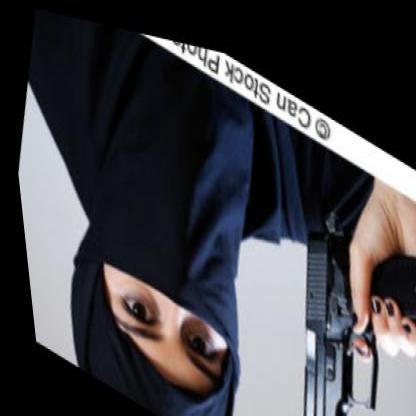pistol: (249, 159, 415, 412)
